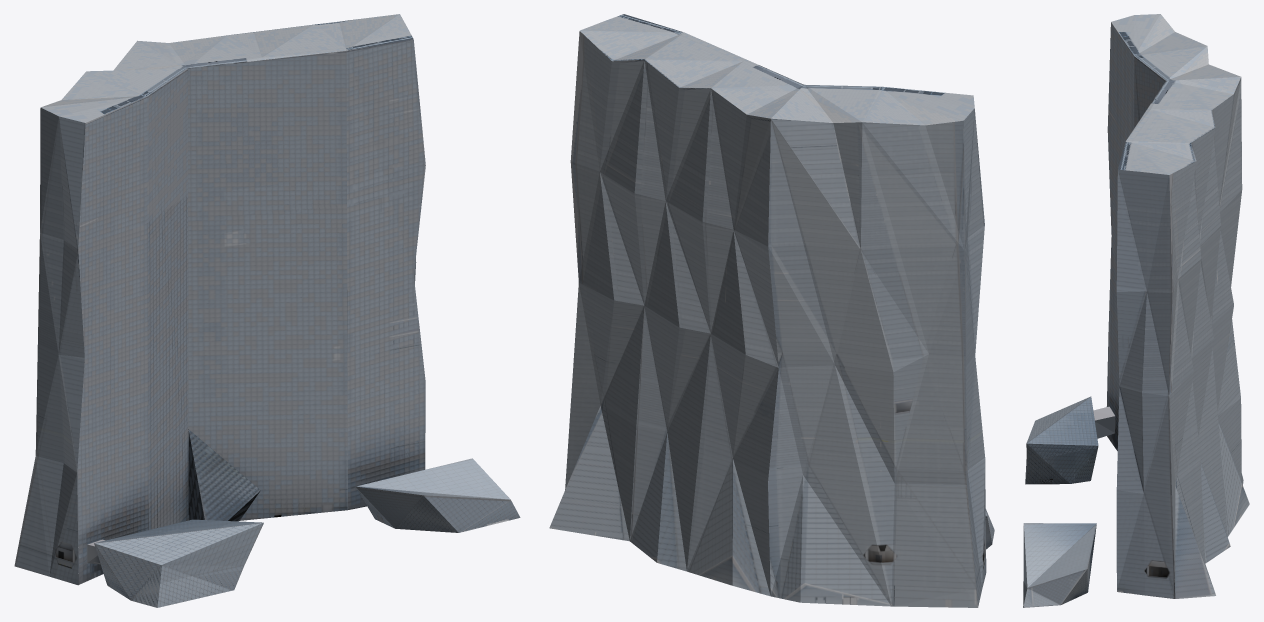
3 renders of one model, left to right at view 1: azimuth 30°, elevation 25°; view 2: azimuth 150°, elevation 25°; view 3: azimuth 270°, elevation 25°, orthographic. The views are drawn at different scales.
Visible parts, largest first — view 1: 109.001; view 2: 109.001; view 3: 109.001.
Boxes of the visible parts, left/top/right/bottom form: 109.001: left=14, top=14, right=520, bottom=607; 109.001: left=549, top=14, right=994, bottom=607; 109.001: left=1023, top=14, right=1249, bottom=607.
Size of the model in its own units: 134 by 140 by 67.89.
1 material, 1 textured.
